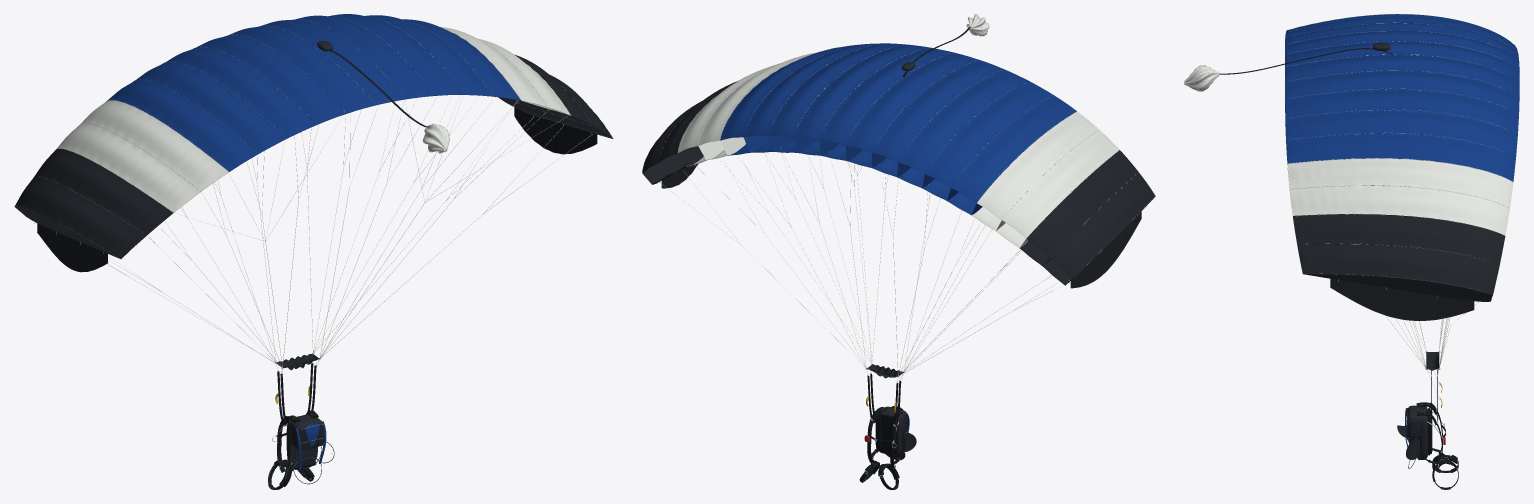
The model's file is parachute-3d.glb.
3 renders of one model, left to right at view 1: azimuth 30°, elevation 25°; view 2: azimuth 150°, elevation 25°; view 3: azimuth 270°, elevation 25°, orthographic. The views are drawn at different scales.
Parts seen in each view (by area): view 1: canopy / Ripstop / cobalt, canopy / Ripstop / graphite, canopy / Ripstop / ivory, lines / Suspension line / warm white, rig / Cordura / container, rig / Woven nylon / webbing, rig / Spacer mesh / padding; view 2: canopy / Ripstop / cobalt, canopy / Ripstop / graphite, canopy / Ripstop / ivory, lines / Suspension line / warm white, rig / Spacer mesh / padding, rig / Woven nylon / webbing, rig / Cordura / container; view 3: canopy / Ripstop / cobalt, canopy / Ripstop / graphite, canopy / Ripstop / ivory, rig / Cordura / container, canopy / Seam thread, rig / Spacer mesh / padding, rig / Woven nylon / webbing, pilot / Ripstop / ivory, lines / Suspension line / warm white.
Boxes of the visible parts, x1,y1,x2,y2 form: canopy / Ripstop / cobalt: [106, 14, 521, 171]; canopy / Ripstop / graphite: [14, 54, 613, 272]; canopy / Ripstop / ivory: [34, 27, 592, 253]; lines / Suspension line / warm white: [35, 95, 590, 390]; rig / Cordura / container: [287, 415, 322, 470]; rig / Woven nylon / webbing: [268, 410, 334, 489]; rig / Spacer mesh / padding: [274, 410, 318, 486]; canopy / Ripstop / cobalt: [720, 43, 1076, 215]; canopy / Ripstop / graphite: [642, 80, 1155, 288]; canopy / Ripstop / ivory: [659, 50, 1138, 283]; lines / Suspension line / warm white: [662, 153, 1056, 402]; rig / Spacer mesh / padding: [865, 407, 902, 479]; rig / Woven nylon / webbing: [859, 406, 916, 489]; rig / Cordura / container: [878, 406, 916, 459]; canopy / Ripstop / cobalt: [1285, 14, 1519, 181]; canopy / Ripstop / graphite: [1293, 214, 1505, 320]; canopy / Ripstop / ivory: [1287, 14, 1513, 302]; rig / Cordura / container: [1406, 405, 1427, 459]; canopy / Seam thread: [1287, 22, 1507, 427]; rig / Spacer mesh / padding: [1416, 402, 1457, 481]; rig / Woven nylon / webbing: [1397, 402, 1458, 489]; pilot / Ripstop / ivory: [1184, 65, 1219, 91]; lines / Suspension line / warm white: [1385, 303, 1476, 399].
Bounding box in the file's own units: 5.84 × 4.97 × 3.47.
Materials: 11 (8 with a texture image).
